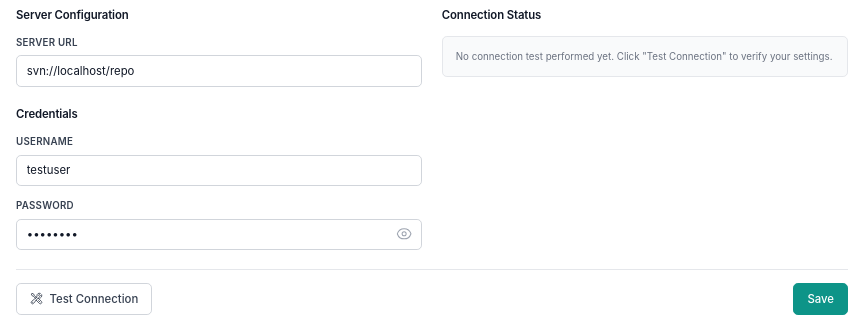
Scenario: ConnectionConfigView › tests connection successfully
What coordinates should you click on to do the following:
click the button "Test Connection"
I would click on:
 (84, 299)
Its box is [16,283,152,315].
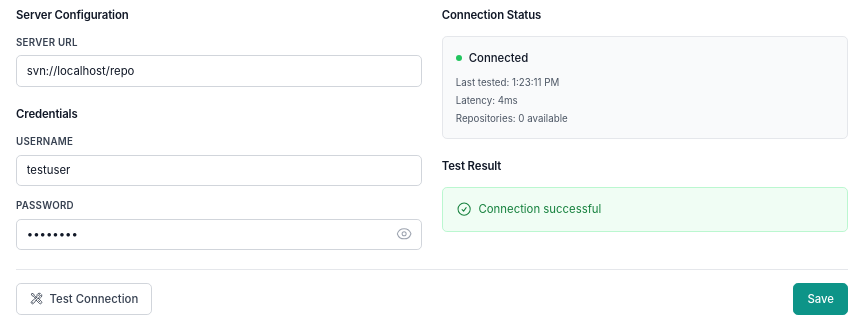
Expected: the text "Connection successful" is shown, [478,201,601,218]
